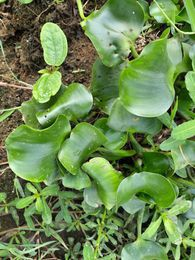water_hyacinth: (8, 0, 194, 260)
